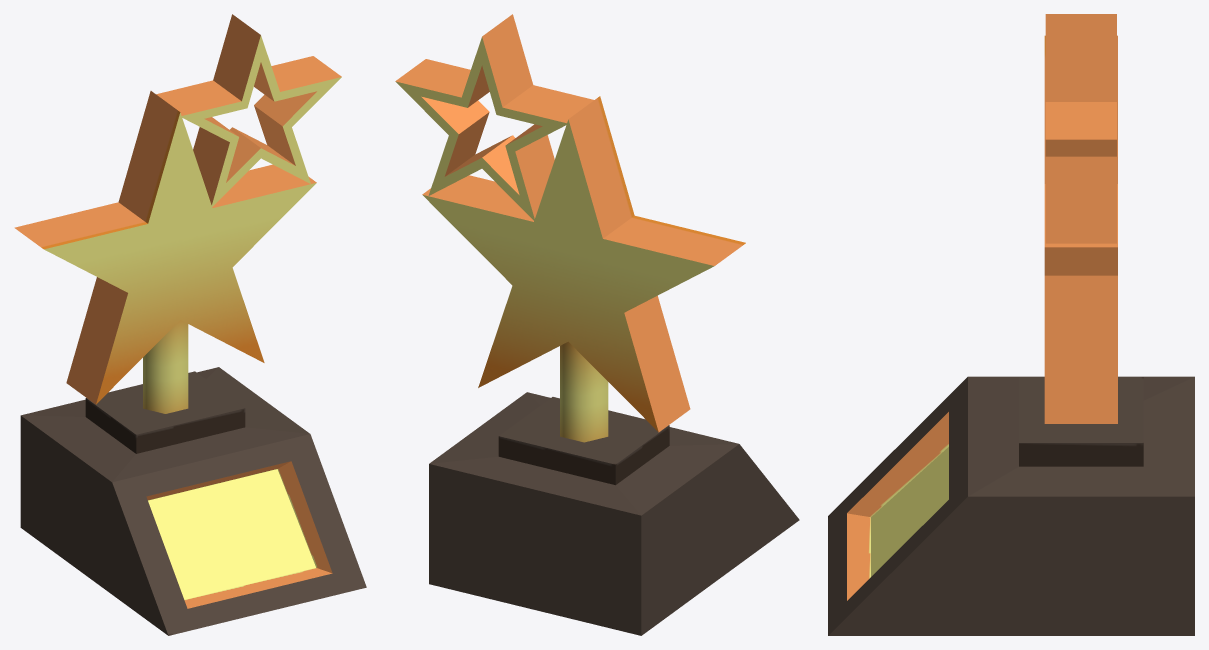
The model's file is TrophyMesh_001.fbx.
3 views of the same model, side by side, from view 1: azimuth 30°, elevation 25°; view 2: azimuth 150°, elevation 25°; view 3: azimuth 270°, elevation 25° (orthographic). The views are drawn at different scales.
Visible parts, largest first — view 1: Trophy_001; view 2: Trophy_001; view 3: Trophy_001.
Part boxes in pixels (box(x1,y1,x2,y2)): Trophy_001: box(14, 14, 366, 635); Trophy_001: box(395, 14, 799, 635); Trophy_001: box(828, 14, 1194, 635).
Bounding box in the file's own units: 0.012 × 0.0189 × 0.0103.
